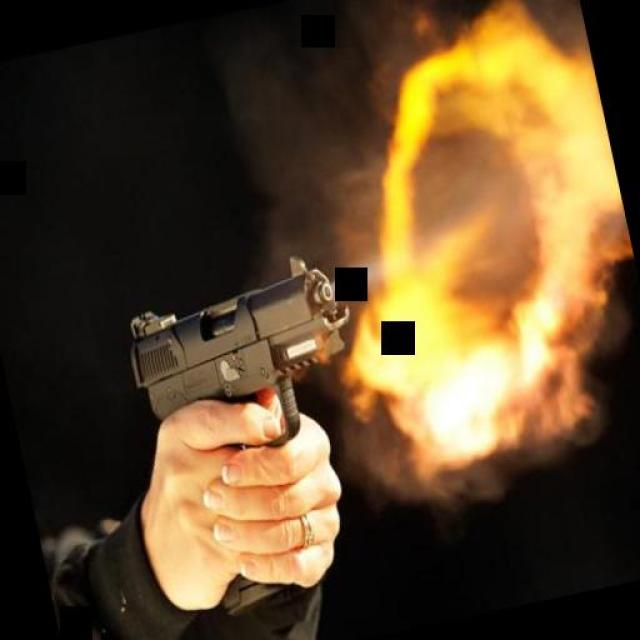gun: (114, 245, 402, 626)
